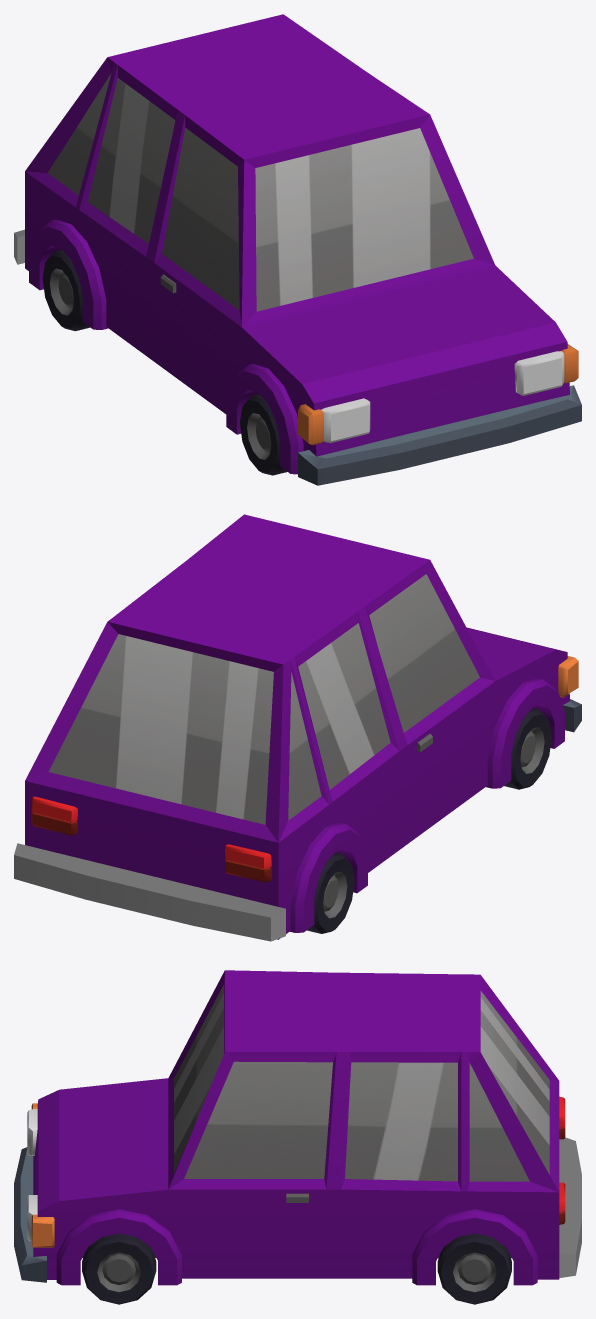
Rendered from Car_1_7.glb.
3 views of the same model, one above another, from view 1: azimuth 30°, elevation 25°; view 2: azimuth 150°, elevation 25°; view 3: azimuth 270°, elevation 25° (orthographic). The views are drawn at different scales.
Visible parts, largest first — view 1: Car_1_7, Wheel_Br, Wheel_Fr; view 2: Car_1_7, Wheel_Fr, Wheel_Br; view 3: Car_1_7, Wheel_Fl, Wheel_Bl.
Boxes of the visible parts, bbox=[...] form: Car_1_7: bbox=[14, 14, 581, 485]; Wheel_Br: bbox=[42, 249, 89, 331]; Wheel_Fr: bbox=[240, 394, 287, 475]; Car_1_7: bbox=[14, 514, 581, 941]; Wheel_Fr: bbox=[504, 708, 551, 789]; Wheel_Br: bbox=[307, 852, 354, 933]; Car_1_7: bbox=[14, 970, 581, 1285]; Wheel_Fl: bbox=[82, 1233, 156, 1304]; Wheel_Bl: bbox=[437, 1233, 511, 1304].
Bounding box in the file's own units: 1.05 × 0.9433 × 2.07.
4 materials, 4 textured.
